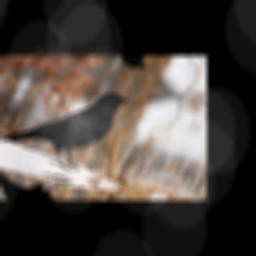Crow: (0, 68, 135, 178)
